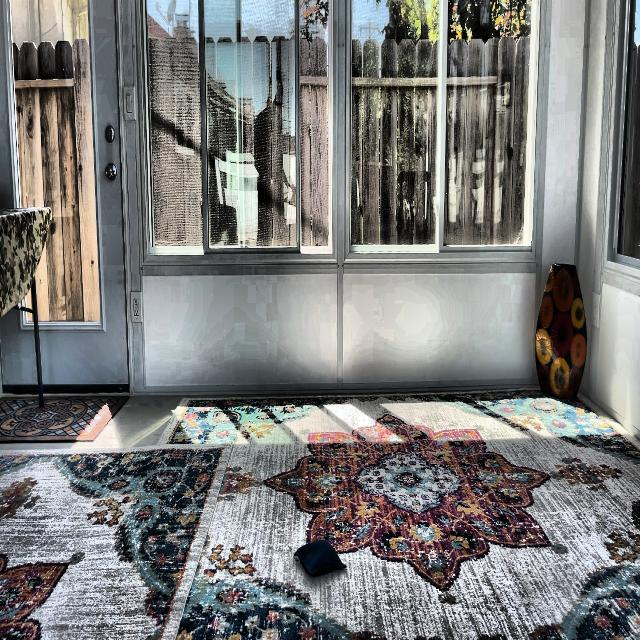blue-bean-bag: (293, 538, 347, 577)
